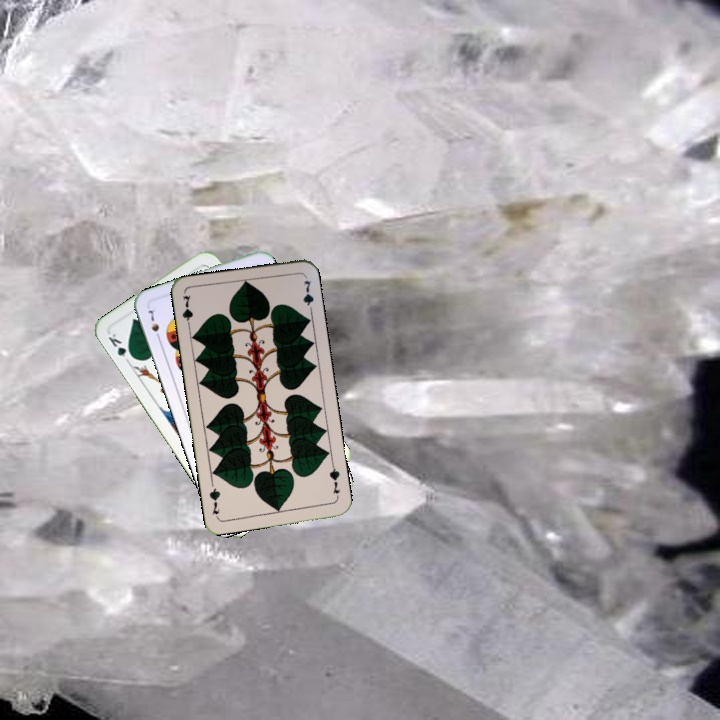G7: (178, 291, 196, 332), (325, 460, 343, 501)
GK: (104, 329, 136, 366)
S7: (145, 305, 163, 343)
